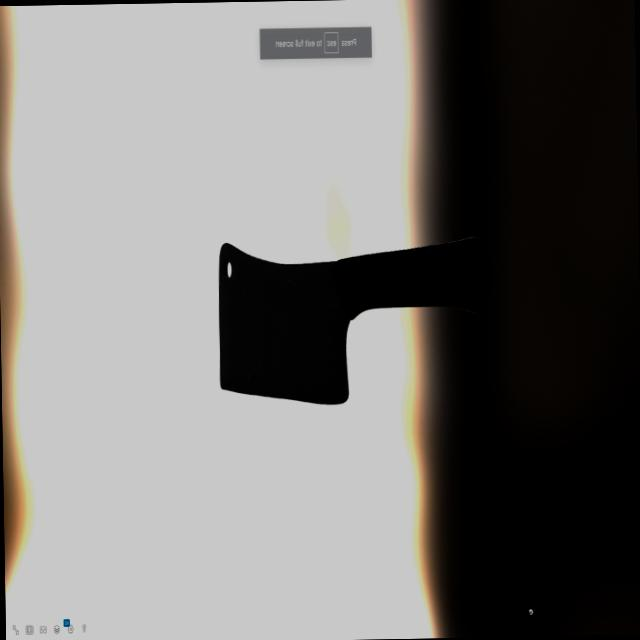cleaver: (217, 231, 488, 394)
